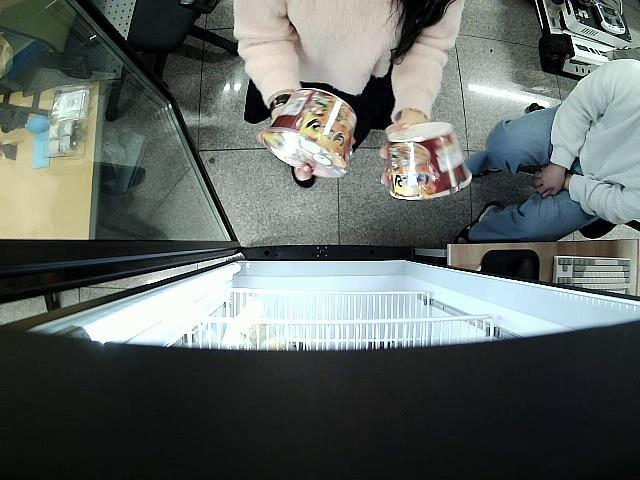05_nuguri_L: (262, 86, 358, 180), (388, 122, 474, 201)
